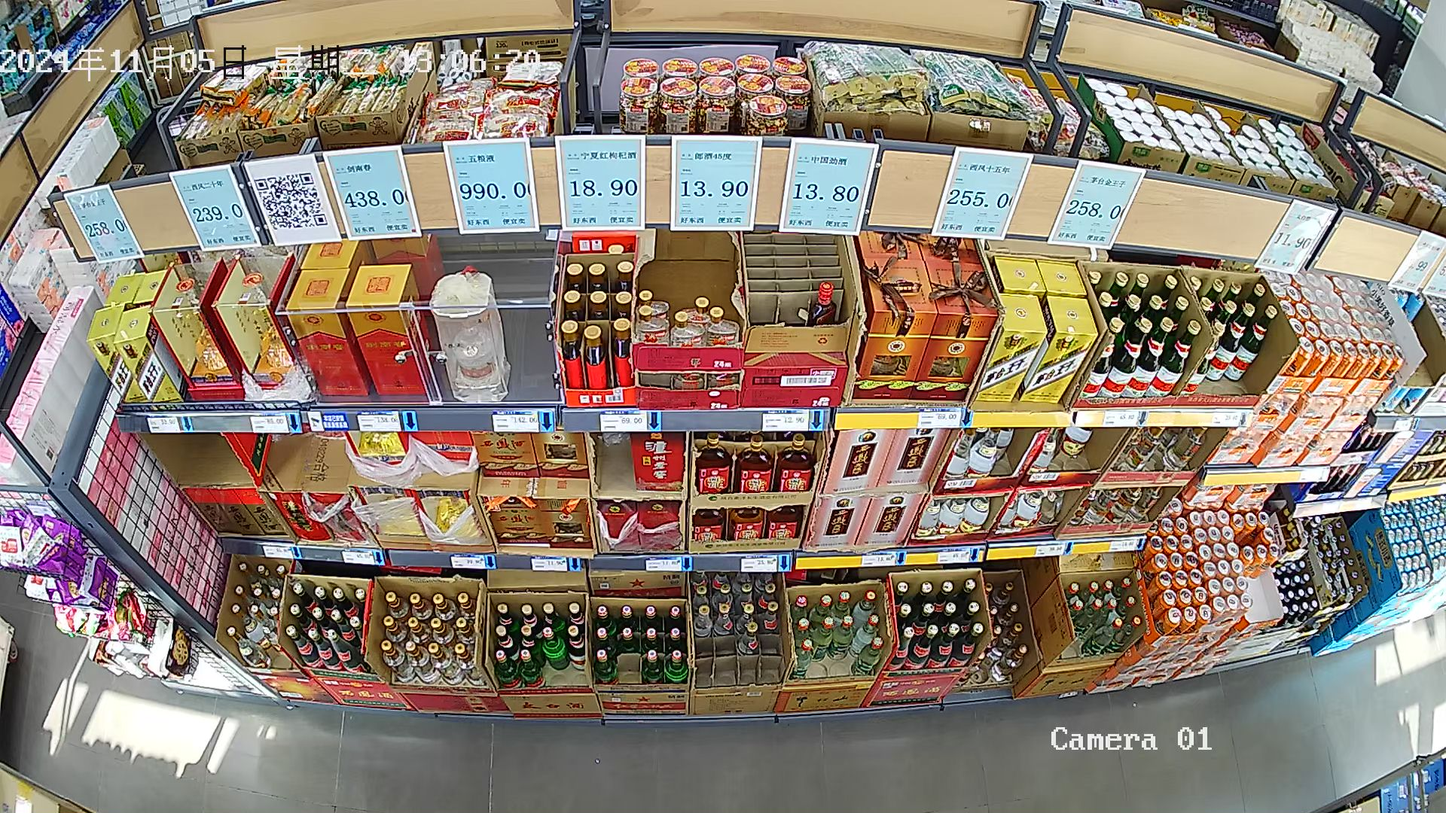盒装酒: (289, 267, 367, 392), (348, 264, 425, 390)
